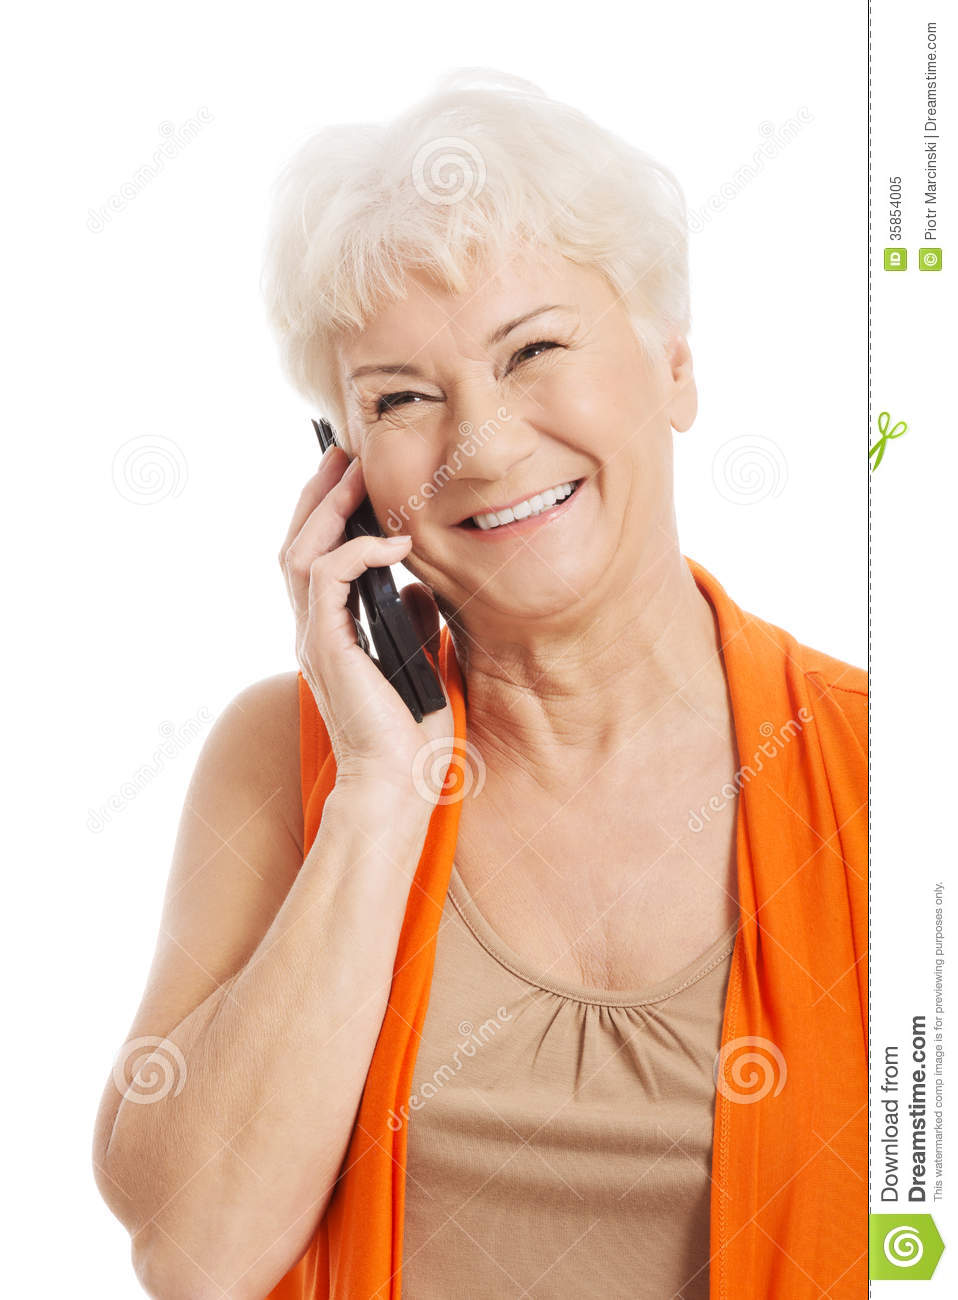phone: (316, 404, 450, 722)
talk: (280, 288, 629, 847)
